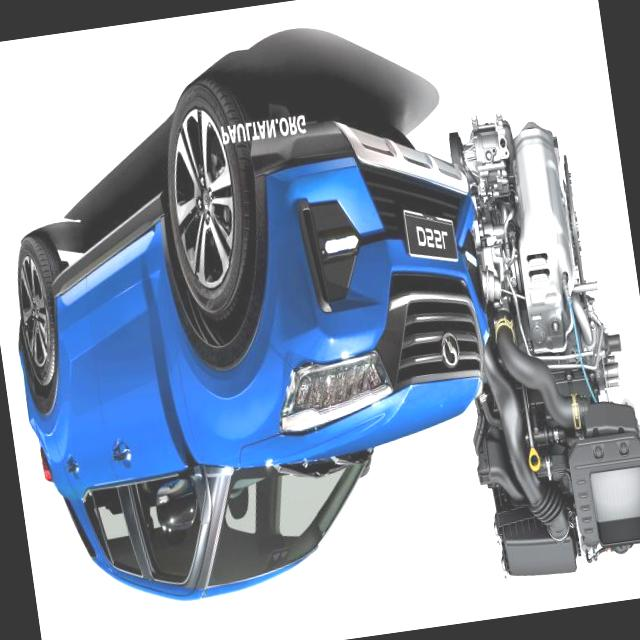PeroduaAtiva: (0, 39, 527, 622)
